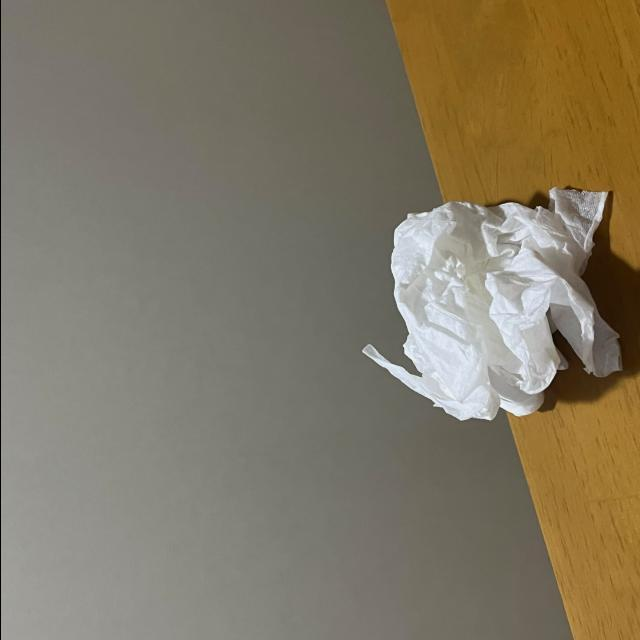Paper: (347, 146, 618, 436)
